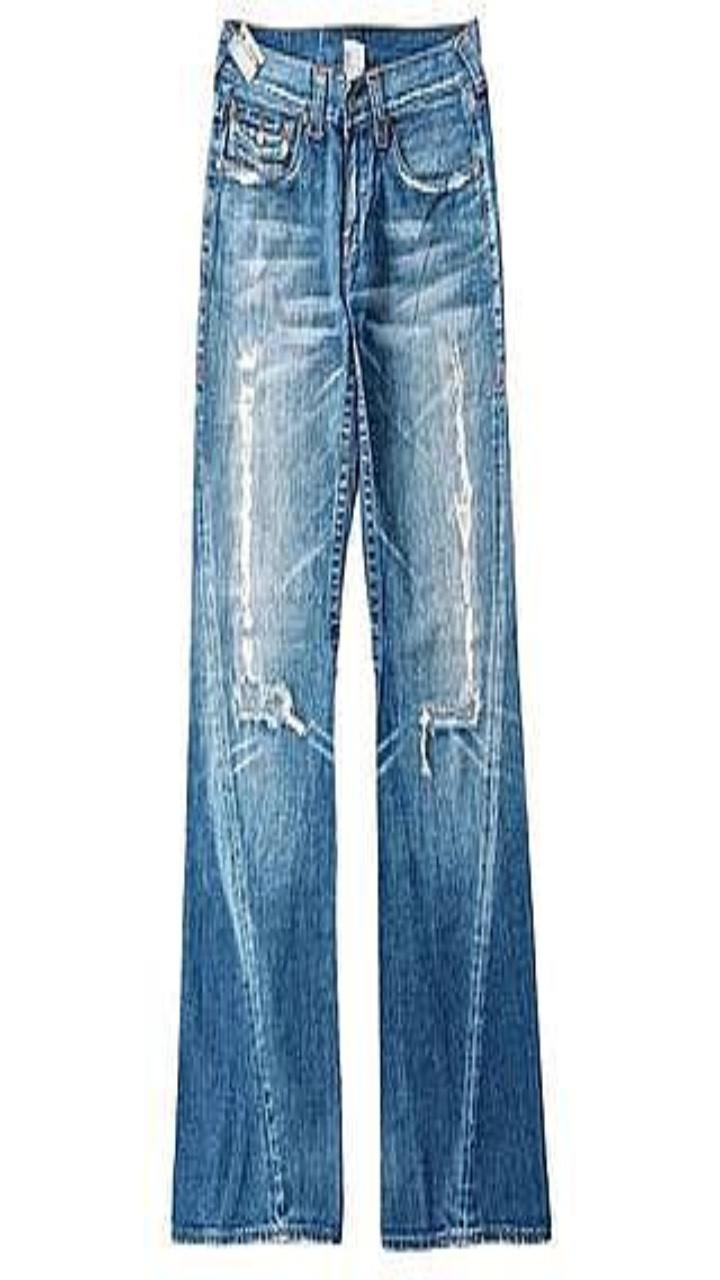Jeans: (173, 21, 549, 1247)
